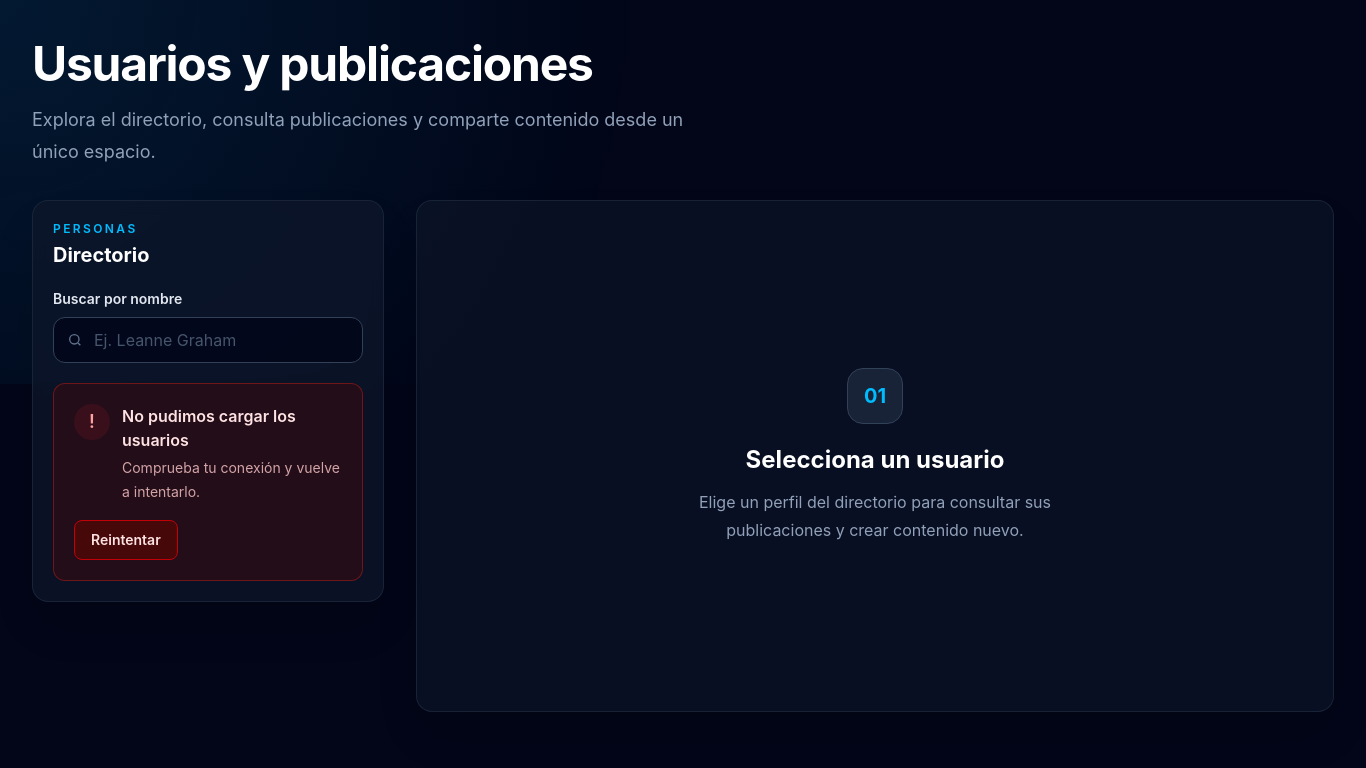
Test: interacciones de usuarios y publicaciones › muestra el error de API y permite reintentar
This screenshot has width=1366, height=768.
Expected: the text "No pudimos cargar los usuarios" is shown, top-left (122, 406), bottom-right (296, 450)
Click the button "Reintentar" at x=126, y=540, box top-left (74, 520), bottom-right (178, 560)
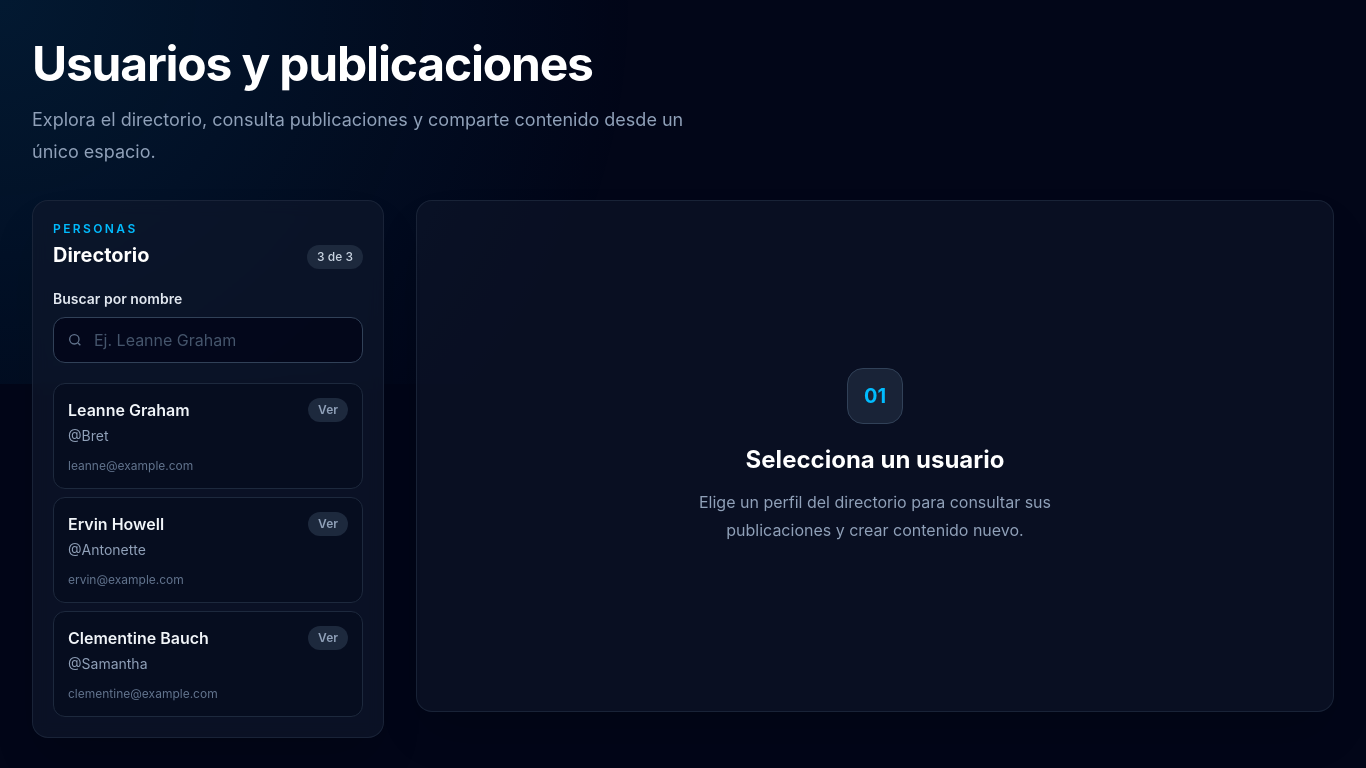
Result: the text "Leanne Graham" is shown at top-left (68, 398), bottom-right (190, 422)
